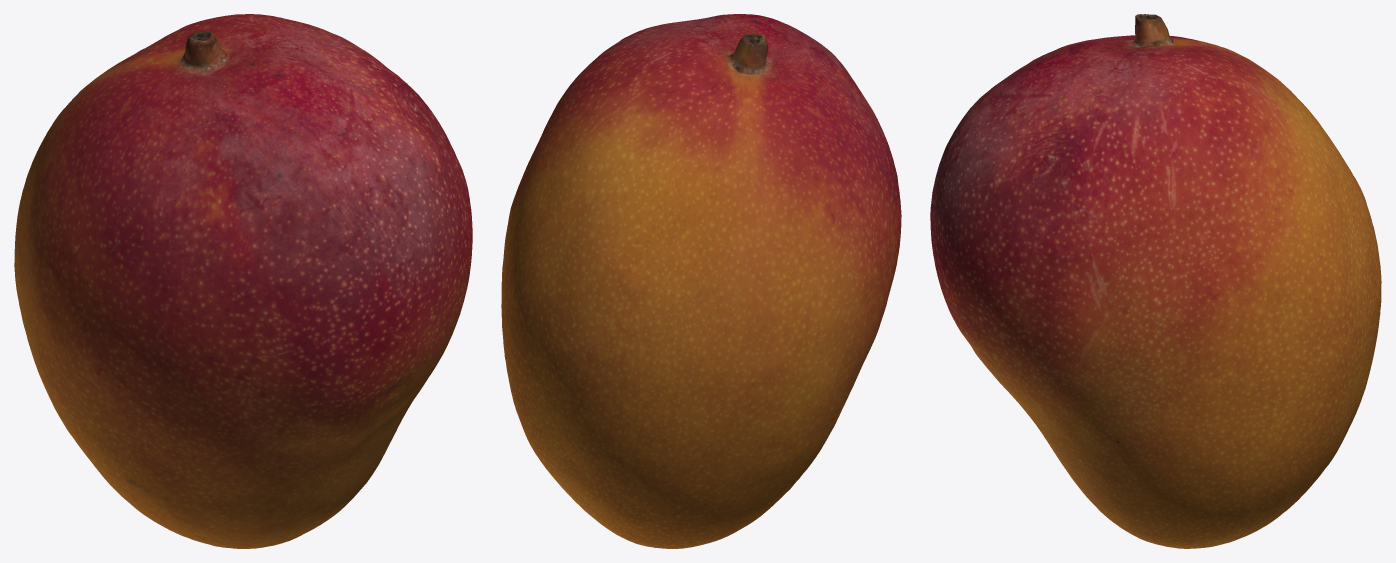
The model's file is mango.glb.
The picture shows the model from 3 angles, left to right: view 1: azimuth 30°, elevation 25°; view 2: azimuth 150°, elevation 25°; view 3: azimuth 270°, elevation 25°; orthographic projection. The views are drawn at different scales.
Visible parts, largest first — view 1: Object_2; view 2: Object_2; view 3: Object_2.
Boxes of the visible parts, x1,y1,x2,y2 form: Object_2: [14, 14, 472, 548]; Object_2: [501, 14, 901, 548]; Object_2: [930, 14, 1381, 548].
Size of the model in its own units: 0.063 by 0.0875 by 0.0724.
Materials: 1 (1 with a texture image).
